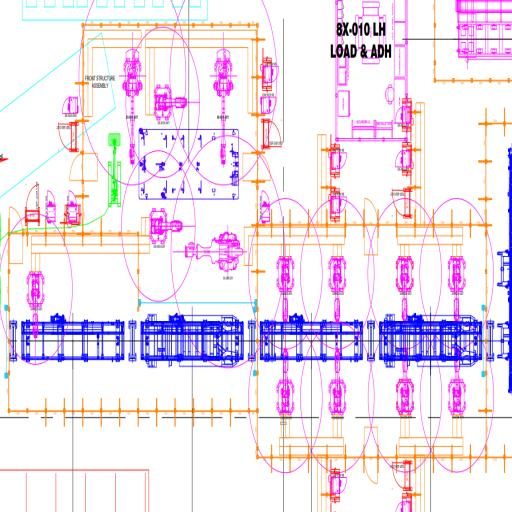robot: (210, 46, 237, 168), (183, 229, 245, 281), (122, 42, 143, 172), (274, 250, 298, 328), (150, 82, 188, 126), (394, 253, 417, 325), (393, 346, 416, 418), (446, 253, 468, 325), (327, 345, 348, 420), (447, 344, 468, 419), (276, 347, 296, 420), (26, 268, 46, 338), (327, 253, 347, 323)
